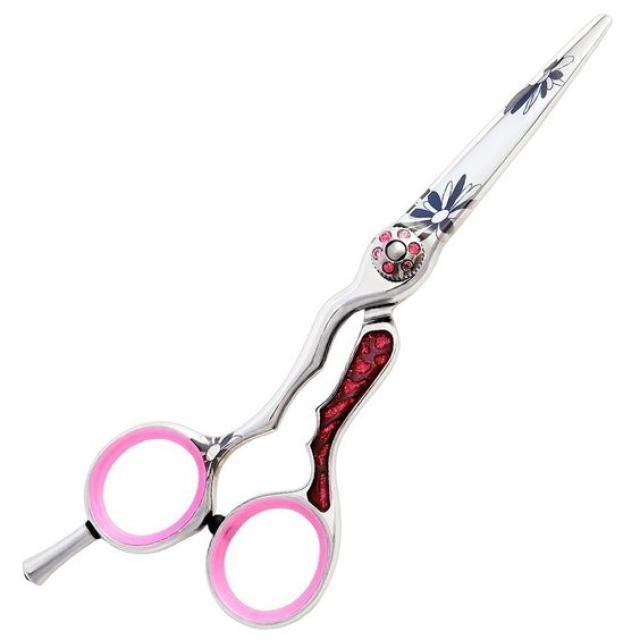scissor: (23, 16, 615, 626)
